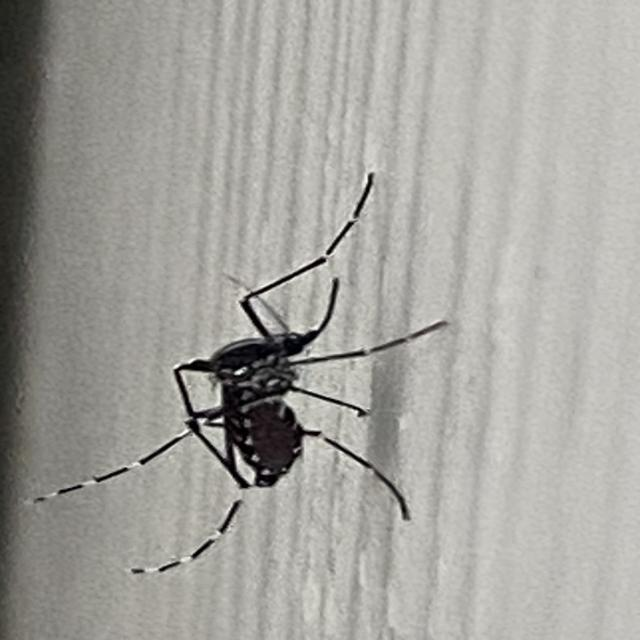albopictus: (34, 152, 458, 607)
